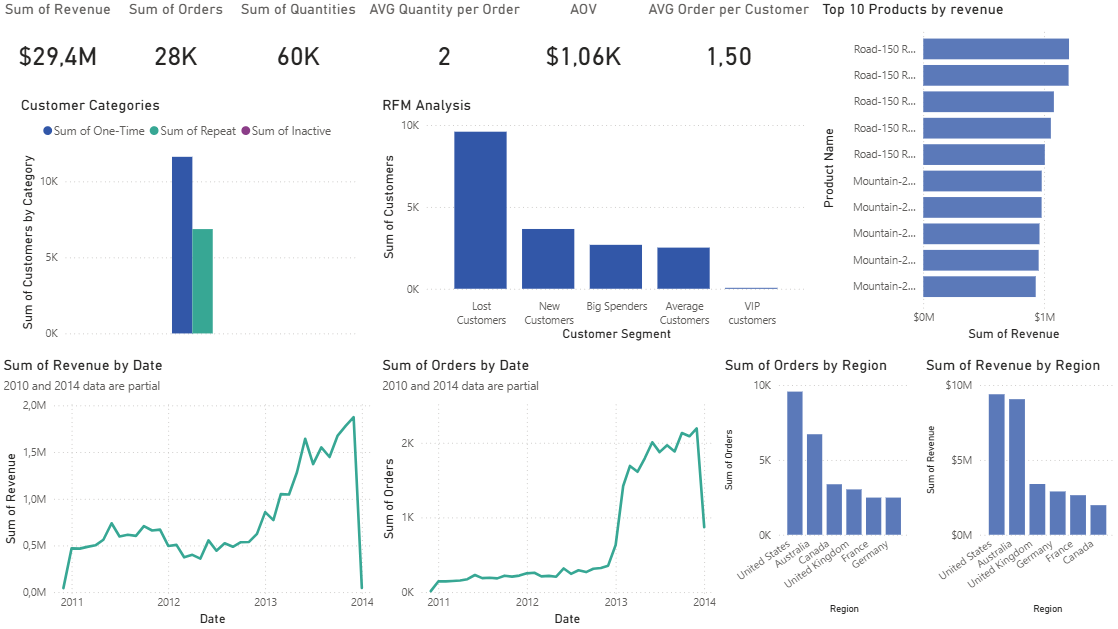

The dashboard page shown, as its layout file describes it:
{"tool":"powerbi","page":{"name":"overview","canvas":[1280,720],"ordinal":0},"visuals":[{"type":"card","title":"Sum of Revenue","fields":{"Values":["Sum(overall.revenue)"]},"box":[0,0,134.5,110.1],"z":0},{"type":"card","title":"Sum of Orders","fields":{"Values":["Sum(overall.order_cnt)"]},"box":[134.5,0,135.7,110.1],"z":1000},{"type":"card","title":"Sum of Quantities","fields":{"Values":["Sum(overall.quantity_cnt)"]},"box":[270.2,0,144.3,110.1],"z":2000},{"type":"card","title":"AVG Quantity per Order","fields":{"Values":["Sum(overall.avg_quan_per_order)"]},"box":[415.7,0,187.1,110],"z":3000},{"type":"card","title":"AOV","fields":{"Values":["Sum(overall.aov)"]},"box":[601.6,0,133.3,110.1],"z":4000},{"type":"card","title":"AVG Order per Customer","fields":{"Values":["Sum(customer info.avg_order_per_customer)"]},"box":[734.9,0,199.3,110.1],"z":5000},{"type":"clusteredColumnChart","title":"Customer Categories","fields":{"Category":["customer info.customer_cnt"],"Y":["Sum(customer info.one_time_customer)","Sum(customer info.active_customer)","Sum(customer info.not_active_customer)"]},"box":[20,110,393.8,285],"z":6000},{"type":"clusteredColumnChart","title":"RFM Analysis ","fields":{"Category":["rfm.customer_segment"],"Y":["CountNonNull(rfm.CustomerKey)"]},"box":[432.5,110,495,285],"z":7000},{"type":"clusteredColumnChart","title":"Sum of Revenue by Region","fields":{"Category":["geography.EnglishCountryRegionName"],"Y":["Sum(geography.revenue)"]},"box":[1053.8,407.5,226.2,300],"z":8000},{"type":"clusteredColumnChart","title":"Sum of Orders by Region","fields":{"Category":["geography.EnglishCountryRegionName"],"Y":["Sum(geography.order_cnt)"]},"box":[823.8,407.5,221.2,300],"z":9000},{"type":"lineChart","title":"Sum of Orders by Date","fields":{"Y":["Sum(Query1.order_over_time)"],"Category":["Query1.date.Variation.Date Hierarchy.Year","Query1.date.Variation.Date Hierarchy.Month"]},"box":[432.9,407.2,391.3,313],"z":10000},{"type":"lineChart","title":"Sum of Revenue by Date","fields":{"Y":["Sum(Query1.revenue)"],"Category":["Query1.date.Variation.Date Hierarchy.Year","Query1.date.Variation.Date Hierarchy.Month"]},"box":[0,407.2,432.9,313],"z":11000},{"type":"clusteredBarChart","title":"Top 10 Products by revenue","fields":{"Y":["Sum(product.revenue)"],"Category":["product.EnglishProductName"]},"box":[935,0,345,395],"z":12000}]}

Visuals, with their boxes in screenshot pixels (x1, y1, x2, y2), scaled from the page's 1280x720 canvas onto the 1118x629 screenshot:
"Sum of Revenue" card: crop(0, 0, 117, 96)
"Sum of Orders" card: crop(117, 0, 236, 96)
"Sum of Quantities" card: crop(236, 0, 362, 96)
"AVG Quantity per Order" card: crop(363, 0, 527, 96)
"AOV" card: crop(525, 0, 642, 96)
"AVG Order per Customer" card: crop(642, 0, 816, 96)
"Customer Categories" clusteredColumnChart: crop(17, 96, 361, 345)
"RFM Analysis " clusteredColumnChart: crop(378, 96, 810, 345)
"Sum of Revenue by Region" clusteredColumnChart: crop(920, 356, 1117, 618)
"Sum of Orders by Region" clusteredColumnChart: crop(720, 356, 913, 618)
"Sum of Orders by Date" lineChart: crop(378, 356, 720, 628)
"Sum of Revenue by Date" lineChart: crop(0, 356, 378, 628)
"Top 10 Products by revenue" clusteredBarChart: crop(817, 0, 1117, 345)
